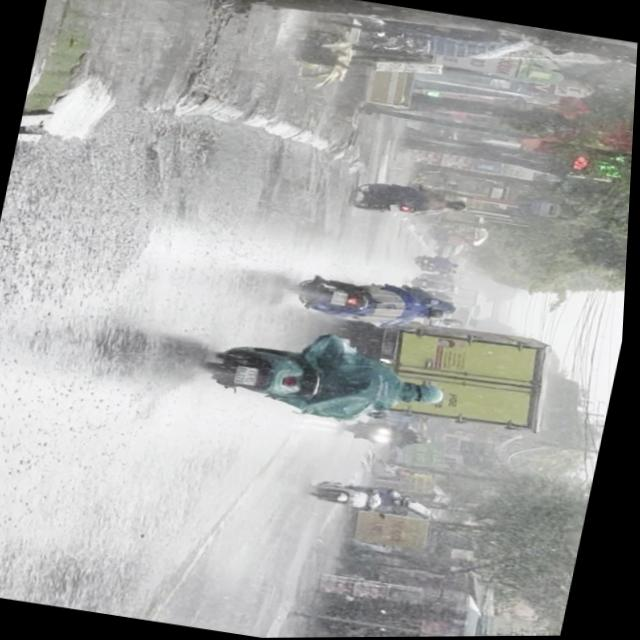helmet: (407, 381, 453, 410), (425, 306, 453, 322)
licenseplate: (188, 314, 463, 439), (283, 266, 469, 338)
nohelmet: (238, 366, 264, 388), (334, 291, 352, 305)
